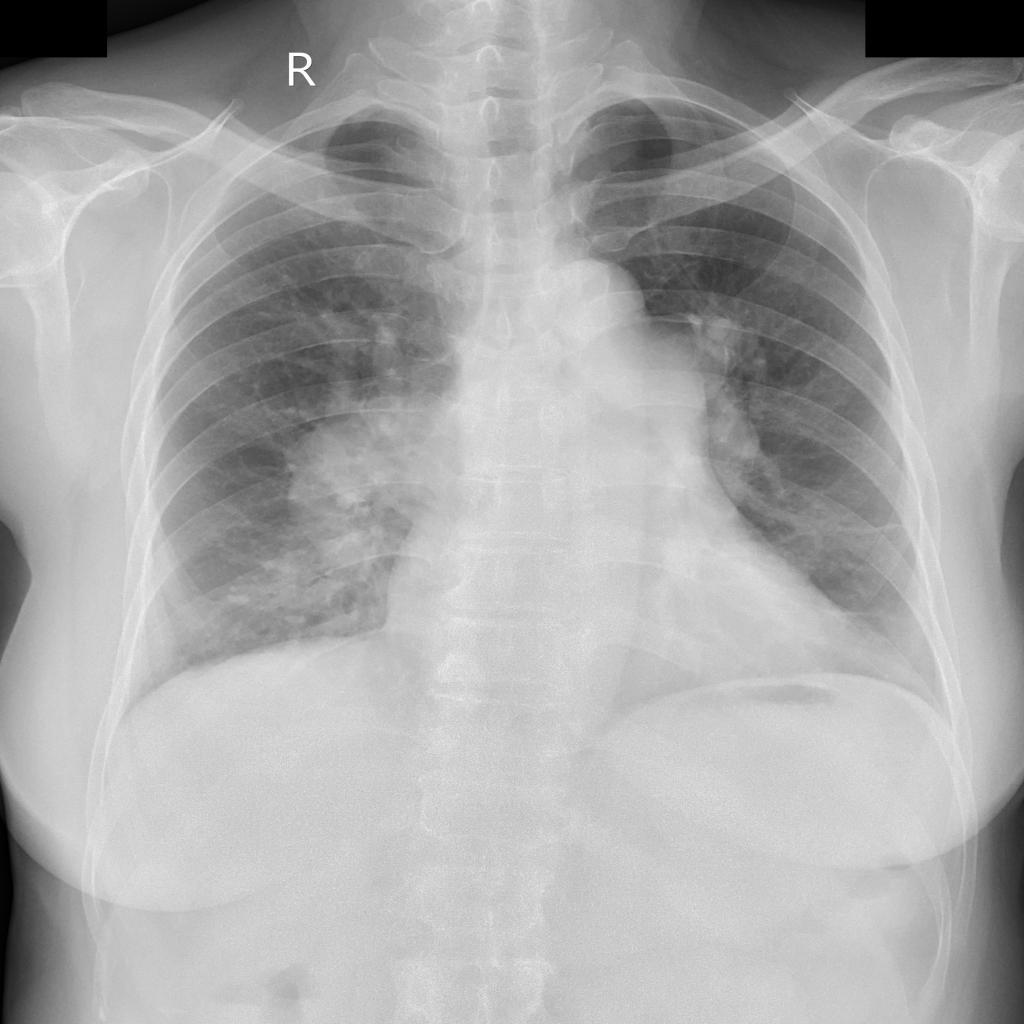Nodule: (290, 391, 471, 573)
